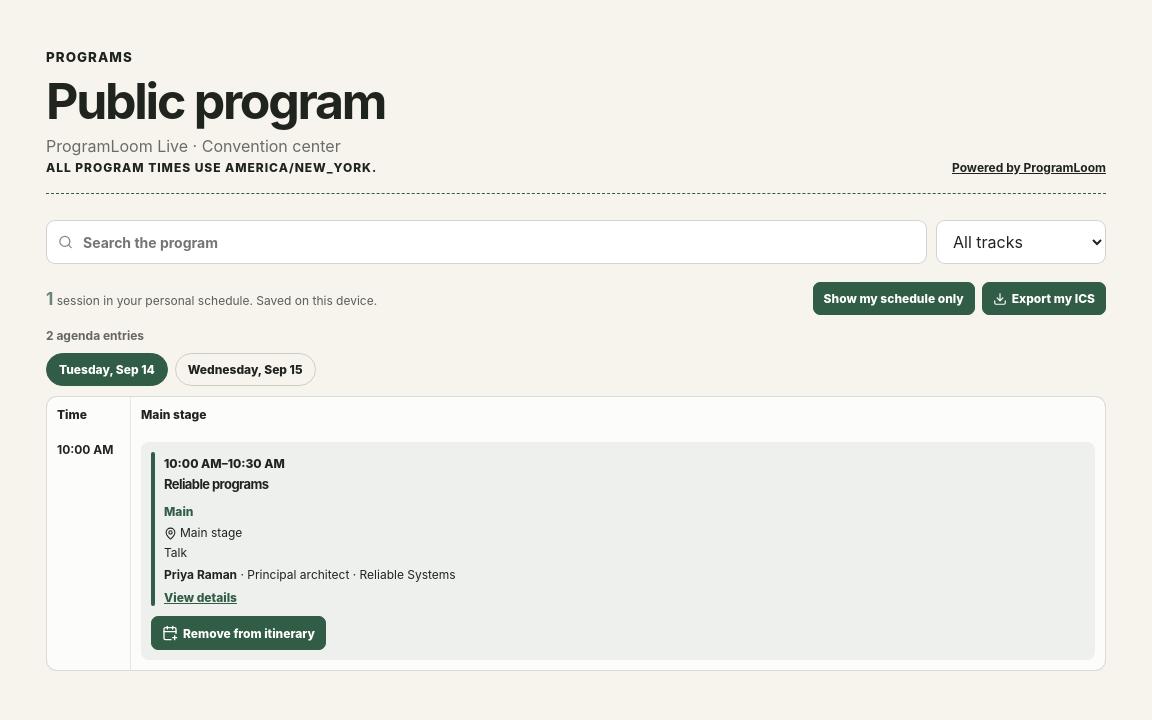
Test: public widgets › uses polished singular itinerary copy
Click the button "Export my ICS": {"x": 1044, "y": 298} [982,282,1106,315]
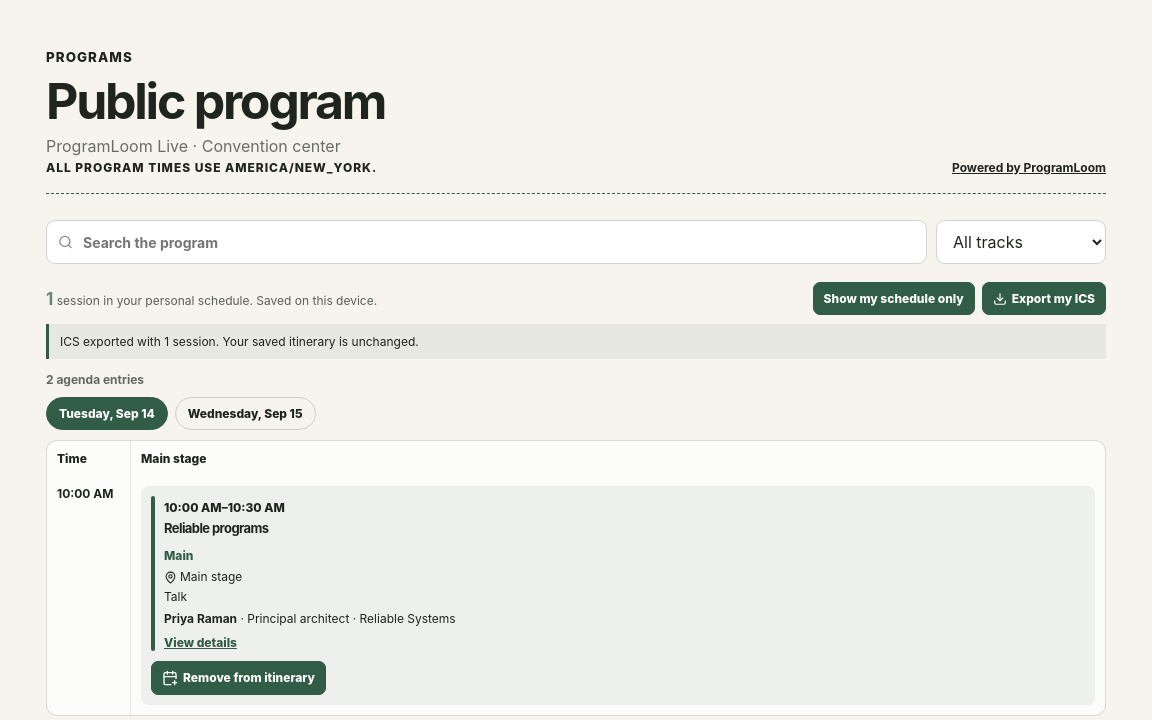
Now the message reads "ICS exported with 1 session. Your saved itinerary is unchanged.", box [60,334,419,349]
